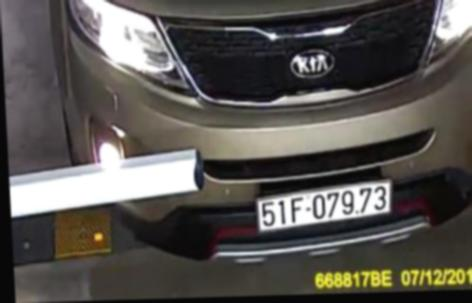License_Plate: (252, 177, 394, 231)
